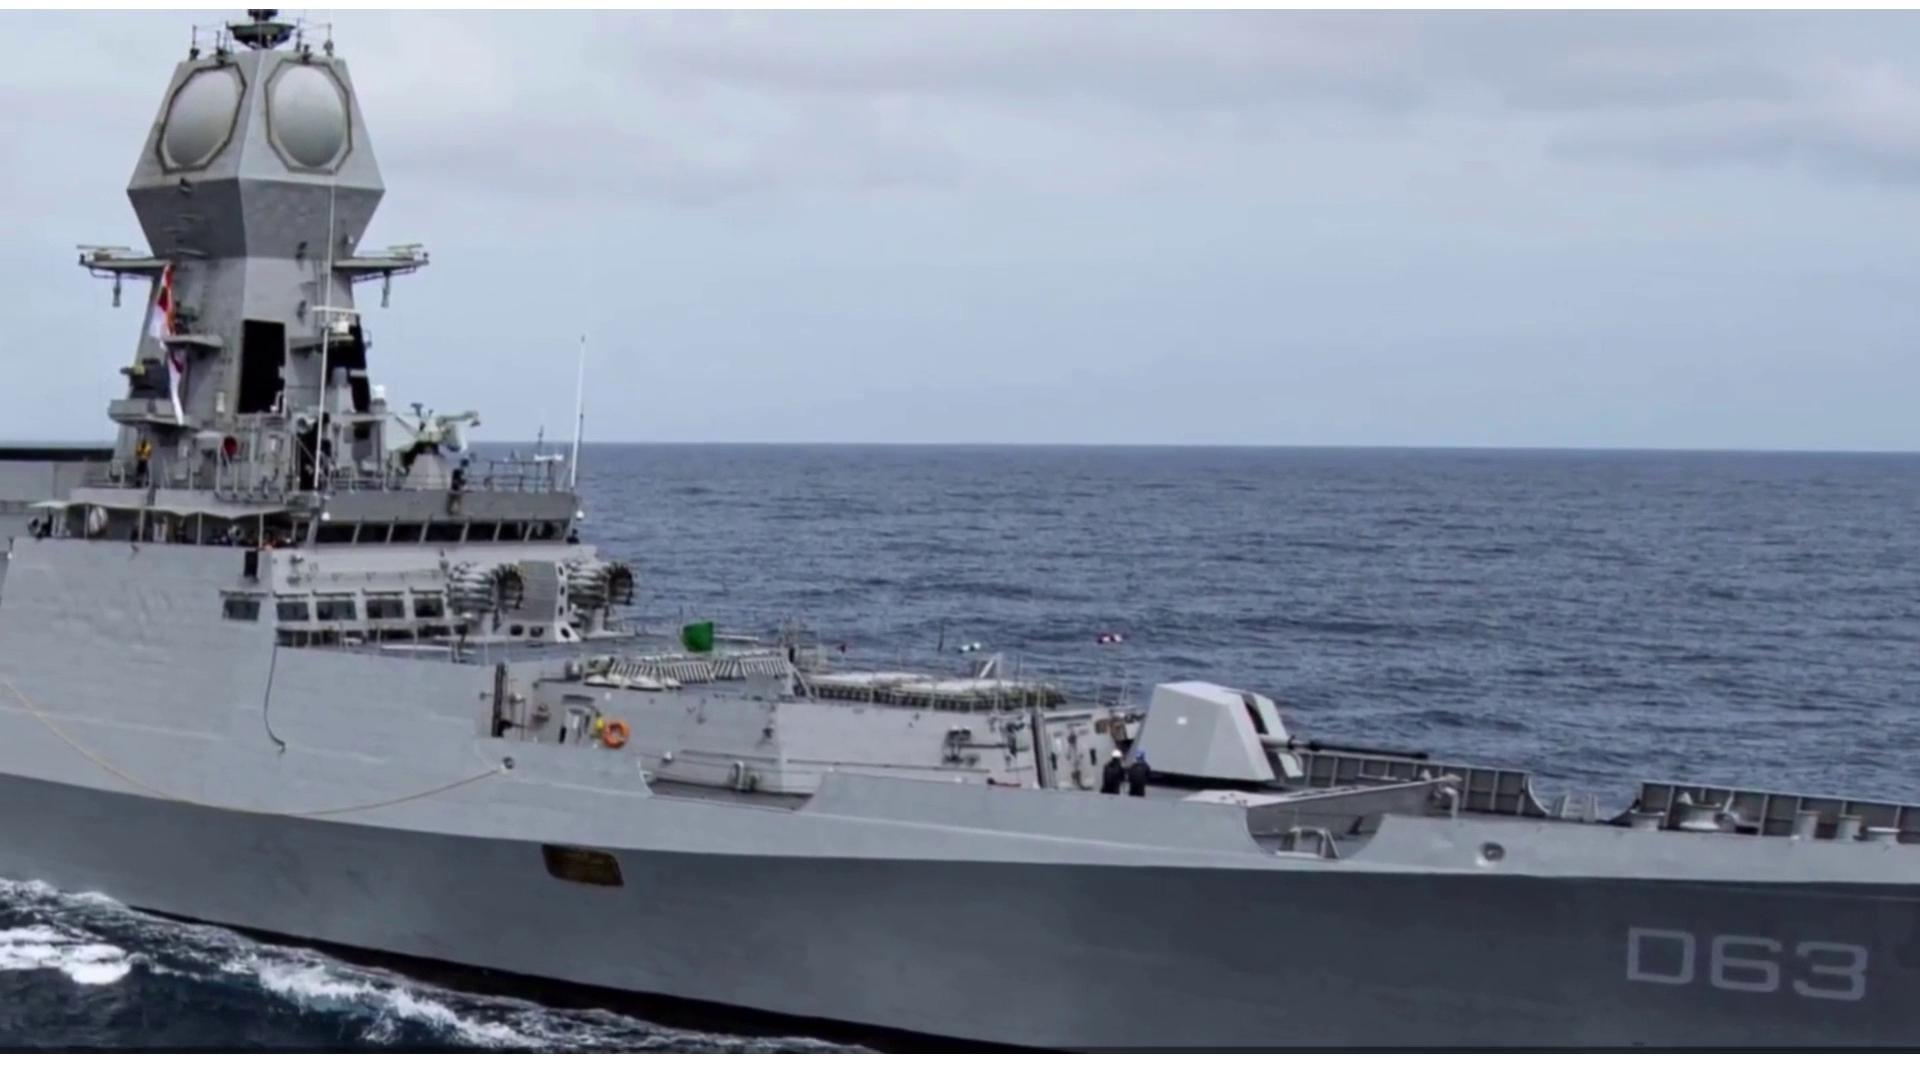OCR: (1616, 918, 1871, 1011)
